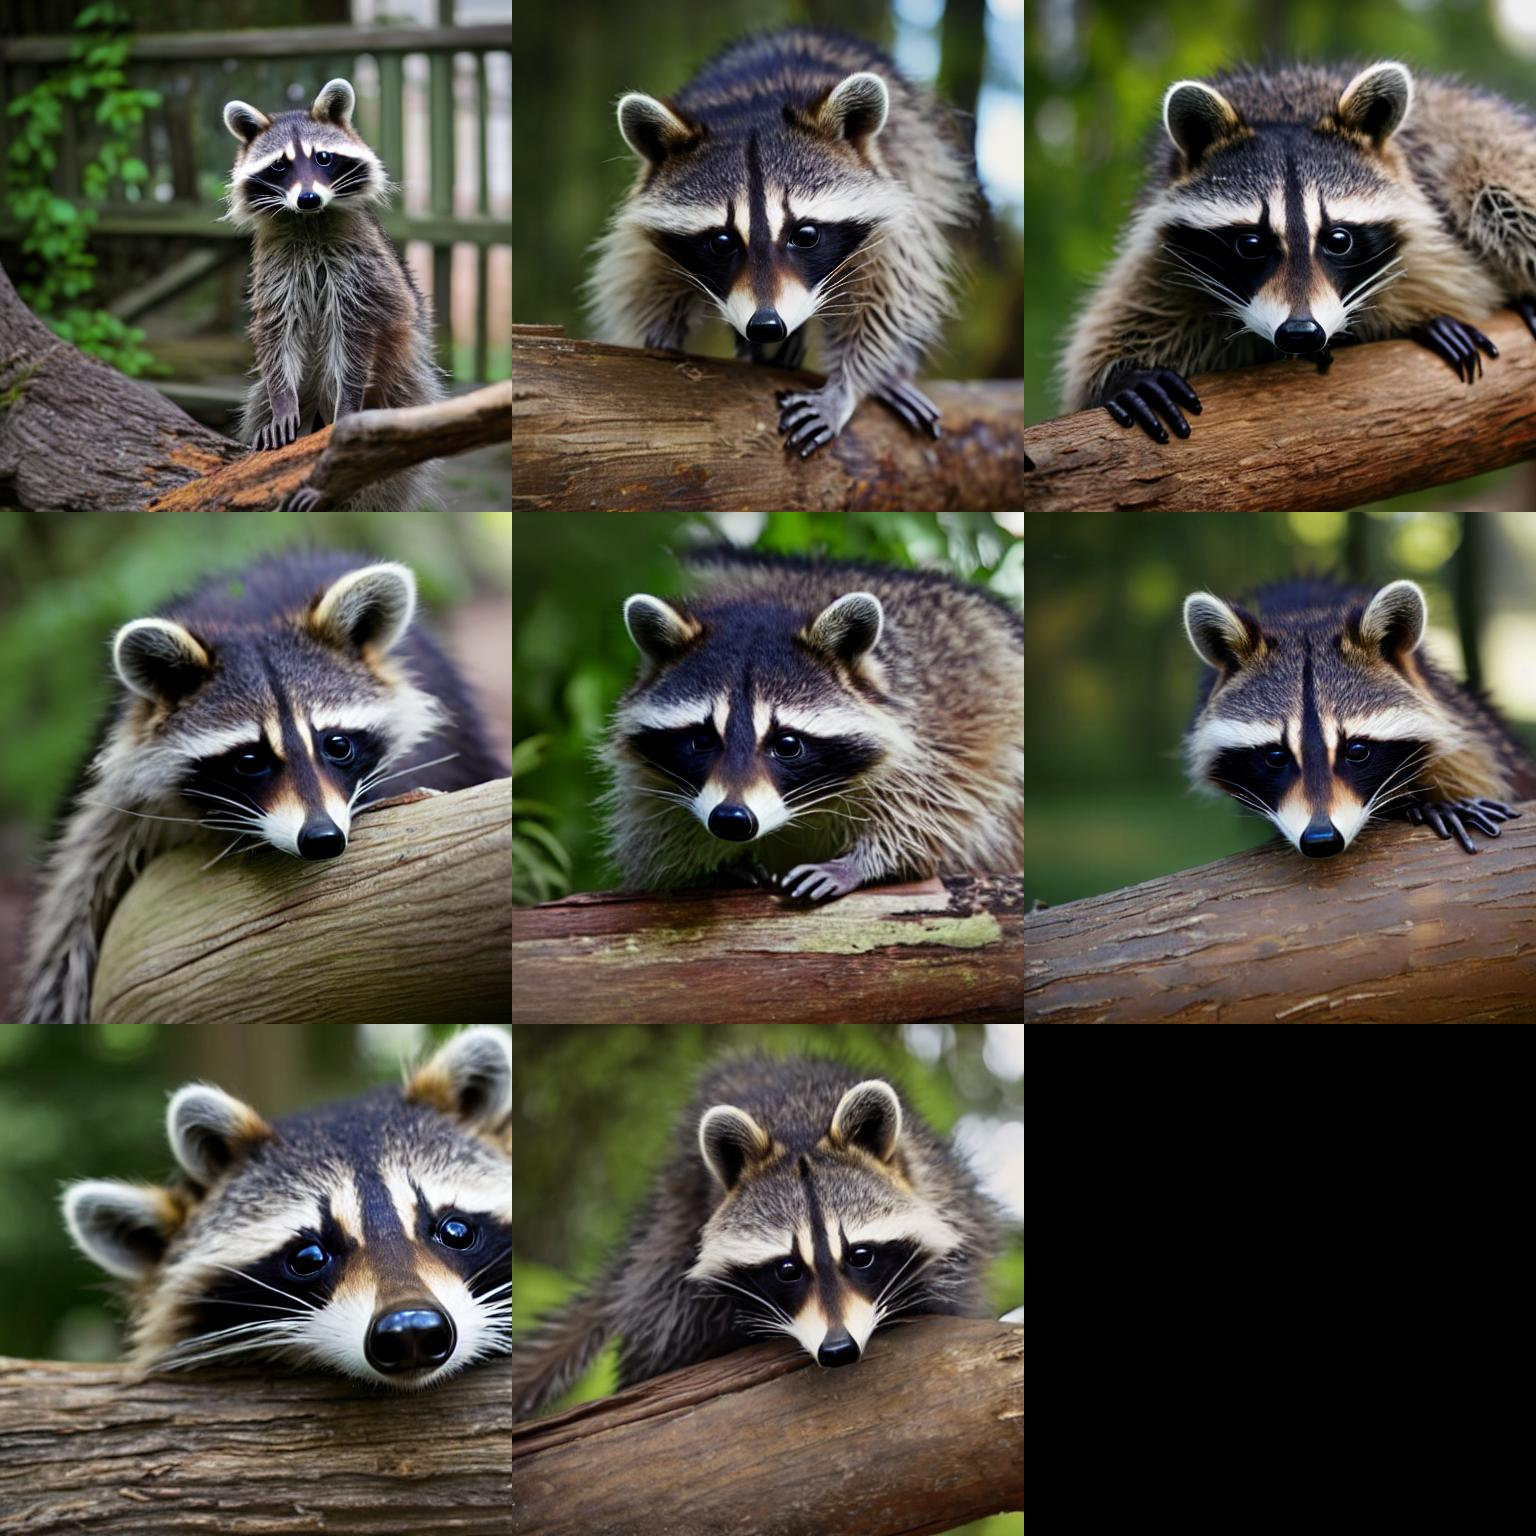raccoon: (525, 1042, 1017, 1402), (23, 530, 505, 881), (1065, 35, 1536, 357), (582, 15, 978, 376), (592, 560, 1020, 872), (167, 1027, 512, 1402), (1158, 563, 1450, 862), (205, 68, 450, 422)
